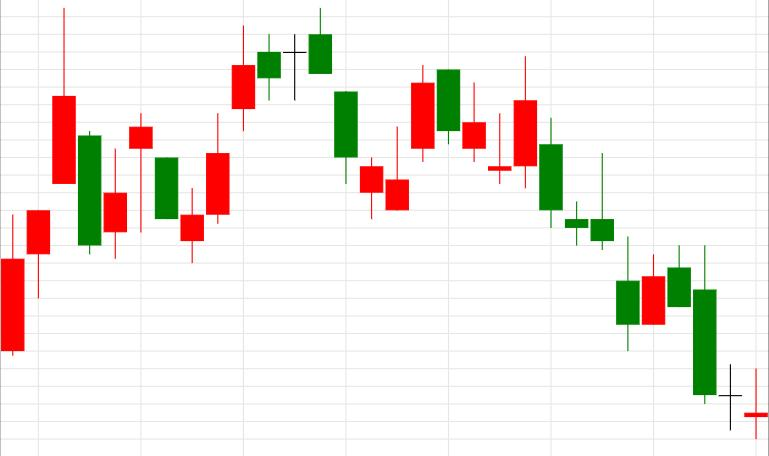inverse_hammer_rise: (283, 7, 409, 219)
